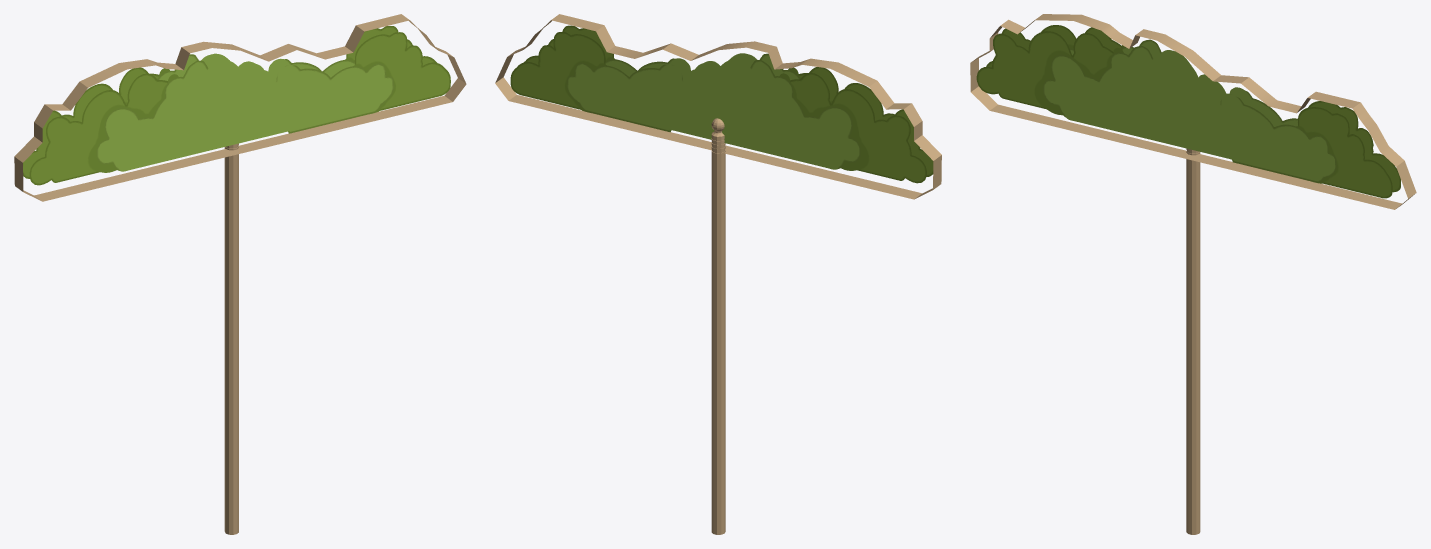
File: Escena6_Arbusto.fbx
3 renders of one model, left to right at view 1: azimuth 30°, elevation 25°; view 2: azimuth 150°, elevation 25°; view 3: azimuth 330°, elevation 25°, orthographic.
Parts seen in each view (by area): view 1: SCN6_03; view 2: SCN6_03; view 3: SCN6_03.
Boxes of the visible parts, x1,y1,x2,y2 form: SCN6_03: (14, 14, 466, 534); SCN6_03: (495, 14, 941, 534); SCN6_03: (970, 14, 1416, 534).
Bounding box in the file's own units: 0.1189 × 0.1273 × 0.00556.
